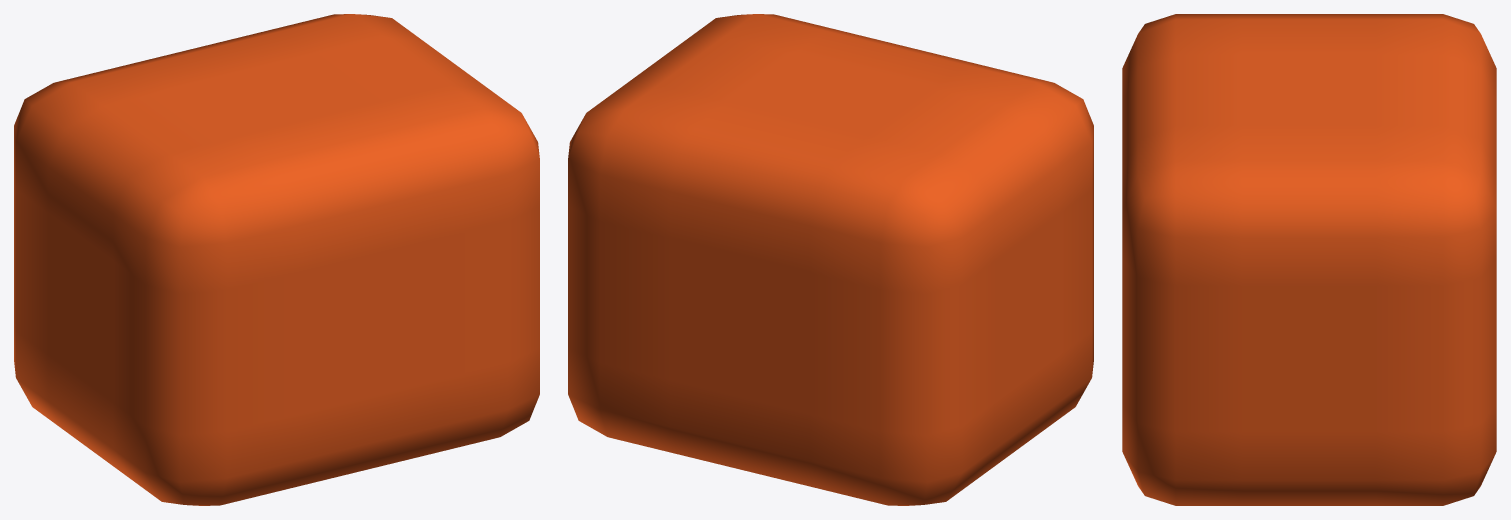
File: Bricks.fbx
The picture shows the model from 3 angles, left to right: view 1: azimuth 30°, elevation 25°; view 2: azimuth 150°, elevation 25°; view 3: azimuth 270°, elevation 25°; orthographic projection. The views are drawn at different scales.
Parts seen in each view (by area): view 1: Bricks; view 2: Bricks; view 3: Bricks.
Part boxes in pixels (<box>): Bricks: <box>14,14,539,505</box>; Bricks: <box>568,14,1093,505</box>; Bricks: <box>1122,14,1496,505</box>.
Size of the model in its own units: 250 by 200 by 200.
